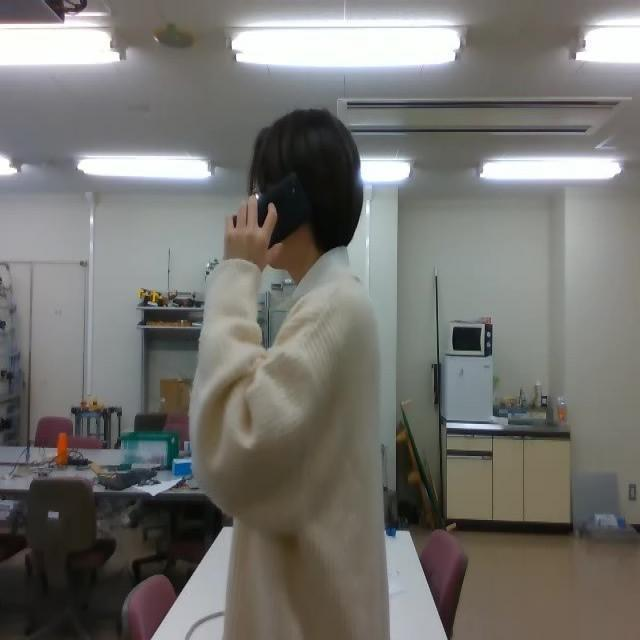Phone: (230, 168, 314, 252)
